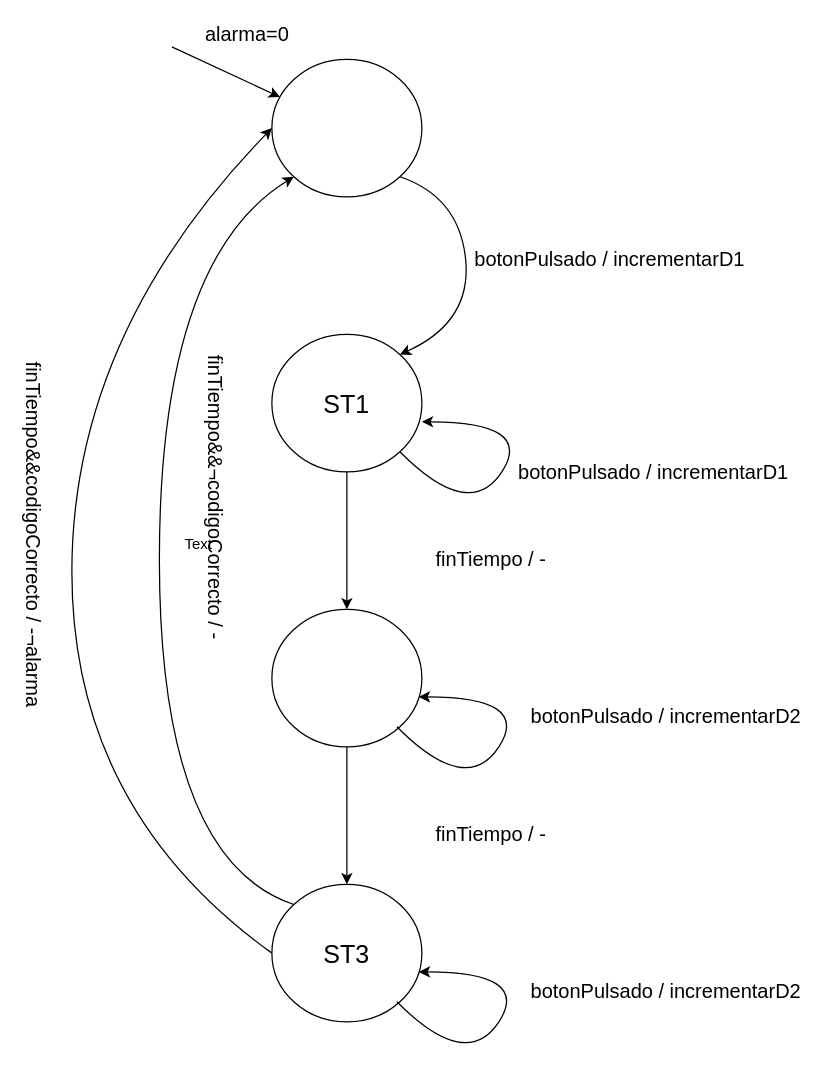
Image size: 830x1065. Some labels were removed from this diagram. Each missing label, with the centre of its shape:
"IDLE" belongs at point (346, 127).
"ST2" belongs at point (346, 677).
